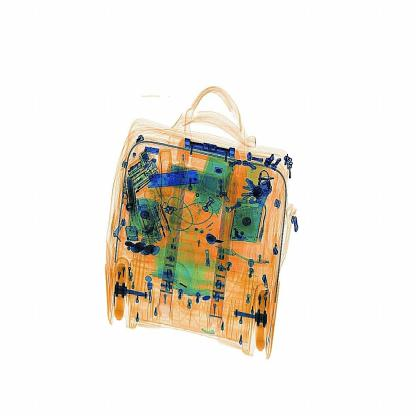pliers: (144, 166, 202, 198)
